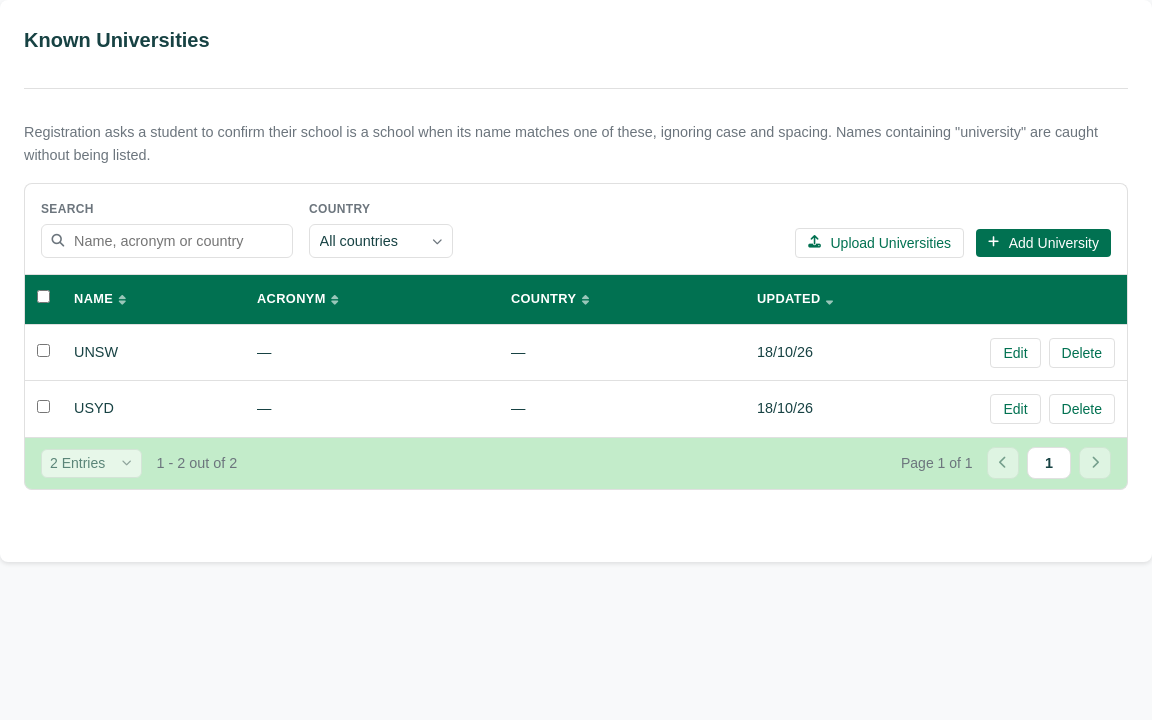
Known Universities › lists every name, and finds them by part of one in any casing
The width and height of the screenshot is (1152, 720).
Type "sy" into the search field with class "data-table-search-input".
click(167, 241); type("sy")  # box [41,224,293,258]
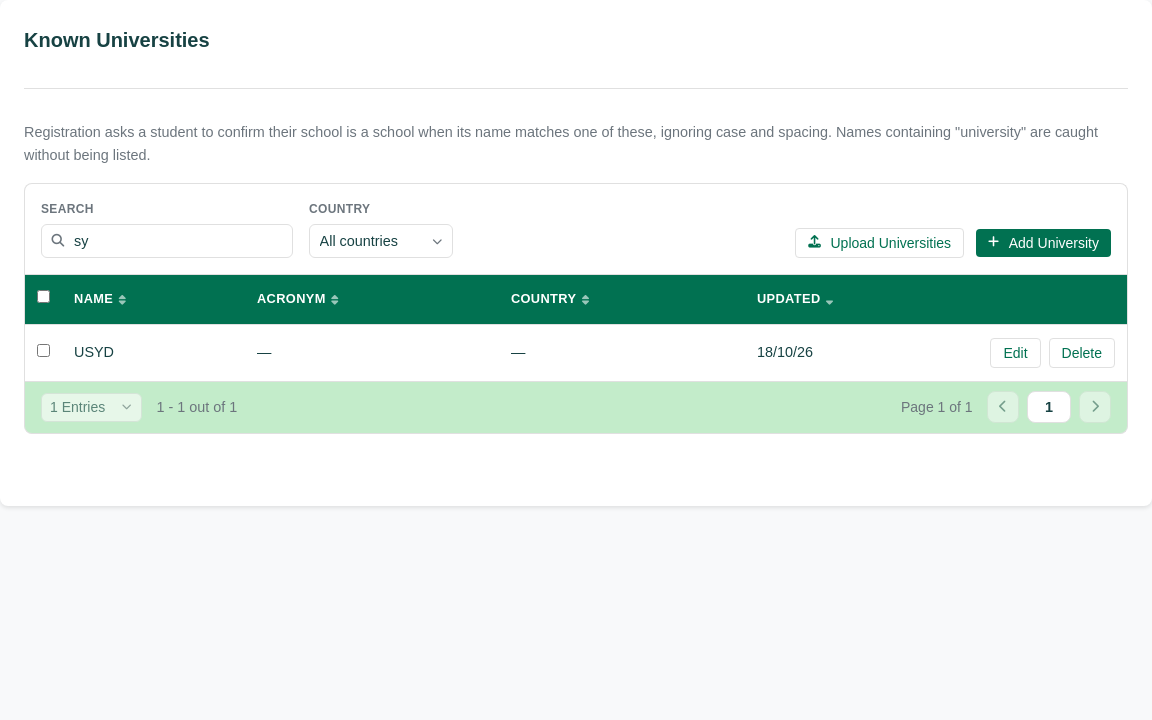
Replace the text in the search field with class "data-table-search-input" with "monash" at (167, 241), box [41,224,293,258]
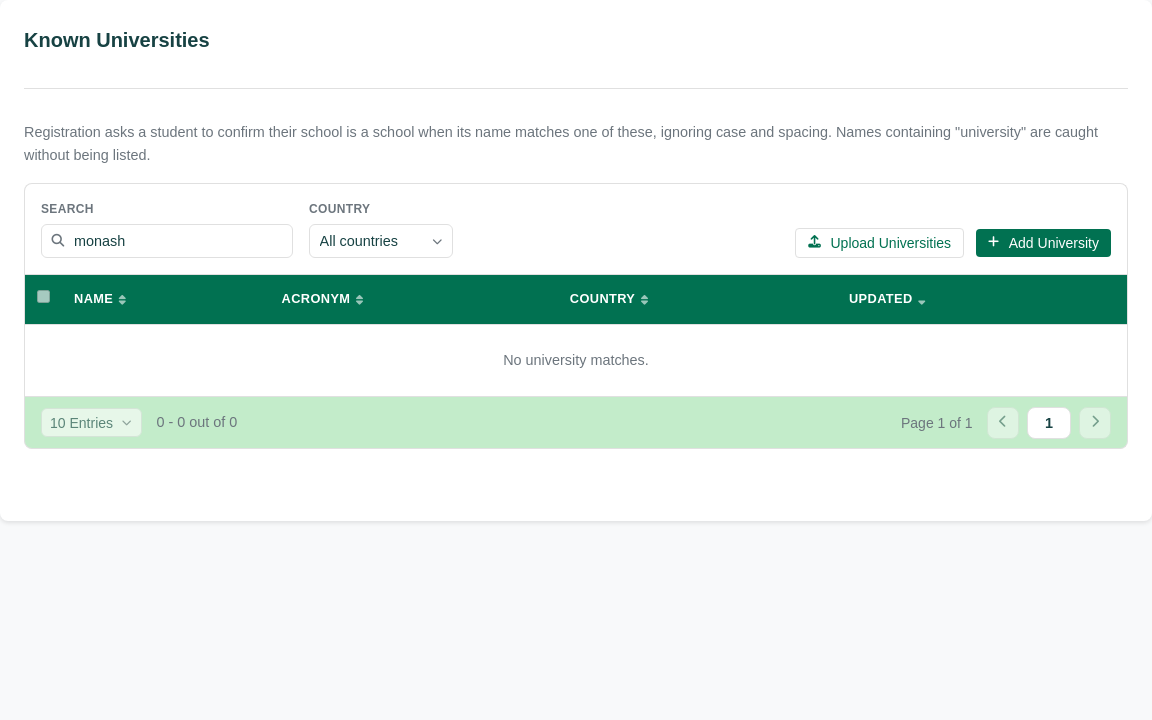
Expected: the text "No university matches." is shown, [25,325,1127,396]
